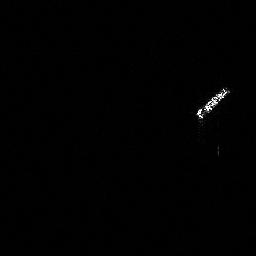ship: (194, 86, 232, 124)
